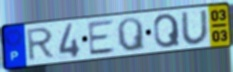4: (57, 22, 82, 60)
E: (87, 18, 117, 57)
Q: (116, 16, 147, 53), (152, 12, 182, 50)
R: (26, 26, 57, 63)
U: (179, 8, 211, 46)
